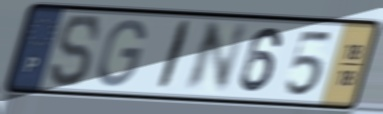5: (283, 28, 337, 97)
6: (237, 25, 284, 96)
G: (96, 17, 148, 90)
I: (153, 18, 195, 93)
N: (179, 20, 251, 95)
S: (47, 12, 103, 90)
